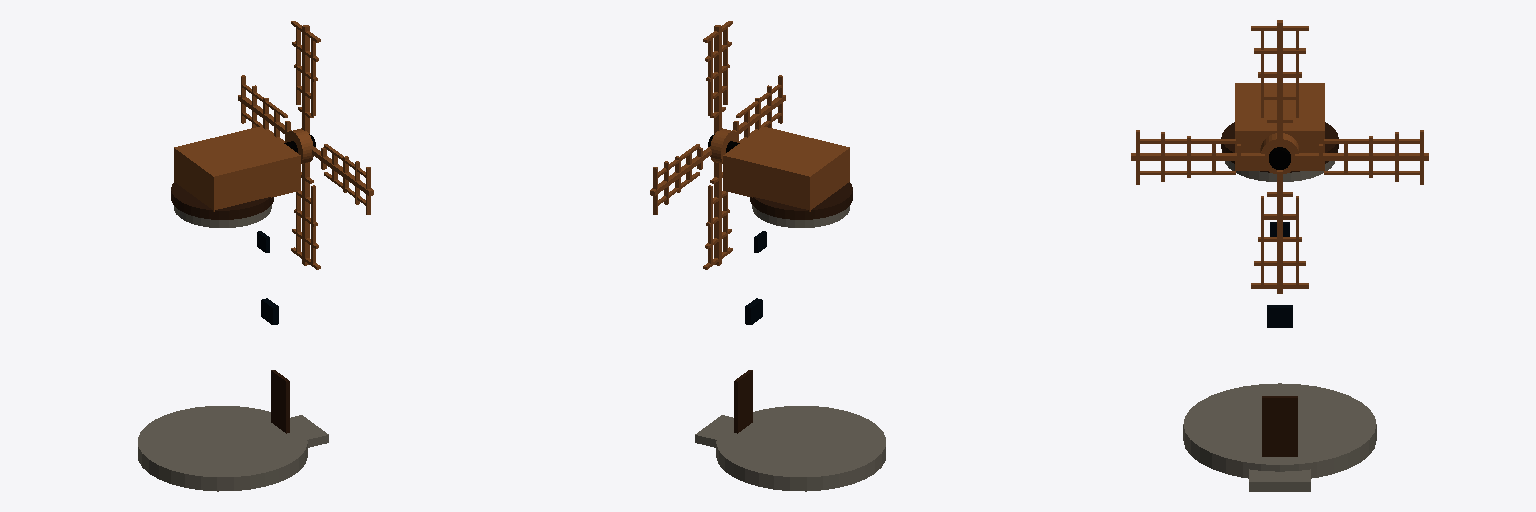
The robot description file, URDF, robot "traditional_windmill":
<robot name="traditional_windmill">
  <material name="warm_whitewash">
    <color rgba="0.78 0.73 0.62 1" />
    </material>
  <material name="grey_stone">
    <color rgba="0.42 0.4 0.36 1" />
    </material>
  <material name="weathered_wood">
    <color rgba="0.5 0.3 0.15 1" />
    </material>
  <material name="dark_oak">
    <color rgba="0.2 0.12 0.07 1" />
    </material>
  <material name="black_shingles">
    <color rgba="0.05 0.055 0.06 1" />
    </material>
  <material name="dark_glass">
    <color rgba="0.03 0.06 0.09 1" />
    </material>
  <material name="dark_iron">
    <color rgba="0.02 0.02 0.018 1" />
    </material>
  <link name="tower">
    <visual name="tower_body">
      <geometry>
        <mesh filename="assets/meshes/tower_body.obj" />
        </geometry>
      <material name="warm_whitewash">
        <color rgba="0.78 0.73 0.62 1" />
        </material>
      </visual>
    <visual name="stone_plinth">
      <origin xyz="0 0 0.06" rpy="0 0 0" />
      <geometry>
        <cylinder radius="0.66" length="0.12" />
        </geometry>
      <material name="grey_stone">
        <color rgba="0.42 0.4 0.36 1" />
        </material>
      </visual>
    <visual name="tower_curb">
      <origin xyz="0 0 2.16" rpy="0 0 0" />
      <geometry>
        <cylinder radius="0.38" length="0.08" />
        </geometry>
      <material name="grey_stone">
        <color rgba="0.42 0.4 0.36 1" />
        </material>
      </visual>
    <visual name="front_door">
      <origin xyz="0.515 0 0.34" rpy="0 0 0" />
      <geometry>
        <box size="0.03 0.24 0.45" />
        </geometry>
      <material name="dark_oak">
        <color rgba="0.2 0.12 0.07 1" />
        </material>
      </visual>
    <visual name="front_window">
      <origin xyz="0.425 0 1.13" rpy="0 0 0" />
      <geometry>
        <box size="0.055 0.18 0.15" />
        </geometry>
      <material name="dark_glass">
        <color rgba="0.03 0.06 0.09 1" />
        </material>
      </visual>
    <visual name="upper_window">
      <origin xyz="0.365 0 1.74" rpy="0 0 0" />
      <geometry>
        <box size="0.035 0.14 0.13" />
        </geometry>
      <material name="dark_glass">
        <color rgba="0.03 0.06 0.09 1" />
        </material>
      </visual>
    <visual name="front_step">
      <origin xyz="0.68 0 0.035" rpy="0 0 0" />
      <geometry>
        <box size="0.3 0.42 0.07" />
        </geometry>
      <material name="grey_stone">
        <color rgba="0.42 0.4 0.36 1" />
        </material>
      </visual>
    </link>
  <link name="cap">
    <visual name="turntable_ring">
      <origin xyz="0 0 0.04" rpy="0 0 0" />
      <geometry>
        <cylinder radius="0.4" length="0.08" />
        </geometry>
      <material name="dark_oak">
        <color rgba="0.2 0.12 0.07 1" />
        </material>
      </visual>
    <visual name="cap_house">
      <origin xyz="0.13 0 0.22" rpy="0 0 0" />
      <geometry>
        <box size="0.78 0.62 0.3" />
        </geometry>
      <material name="weathered_wood">
        <color rgba="0.5 0.3 0.15 1" />
        </material>
      </visual>
    <visual name="cap_roof">
      <geometry>
        <mesh filename="assets/meshes/cap_roof.obj" />
        </geometry>
      <material name="black_shingles">
        <color rgba="0.05 0.055 0.06 1" />
        </material>
      </visual>
    <visual name="windshaft">
      <origin xyz="0.52 0 0.28" rpy="0 1.5708 0" />
      <geometry>
        <cylinder radius="0.055" length="0.24" />
        </geometry>
      <material name="dark_iron">
        <color rgba="0.02 0.02 0.018 1" />
        </material>
      </visual>
    </link>
  <link name="sail_hub">
    <visual name="hub_barrel">
      <origin xyz="0.05 0 0" rpy="0 1.5708 0" />
      <geometry>
        <cylinder radius="0.135" length="0.1" />
        </geometry>
      <material name="weathered_wood">
        <color rgba="0.5 0.3 0.15 1" />
        </material>
      </visual>
    <visual name="front_bolt">
      <origin xyz="0.127 0 0" rpy="0 1.5708 0" />
      <geometry>
        <cylinder radius="0.075" length="0.055" />
        </geometry>
      <material name="dark_iron">
        <color rgba="0.02 0.02 0.018 1" />
        </material>
      </visual>
    <visual name="blade_0_spar">
      <origin xyz="0.105 -0 0.56" rpy="0 0 0" />
      <geometry>
        <box size="0.045 0.04 0.92" />
        </geometry>
      <material name="weathered_wood">
        <color rgba="0.5 0.3 0.15 1" />
        </material>
      </visual>
    <visual name="blade_0_slat_0">
      <origin xyz="0.105 -0 0.28" rpy="0 0 0" />
      <geometry>
        <box size="0.034 0.18 0.024" />
        </geometry>
      <material name="weathered_wood">
        <color rgba="0.5 0.3 0.15 1" />
        </material>
      </visual>
    <visual name="blade_0_slat_1">
      <origin xyz="0.105 -0 0.45" rpy="0 0 0" />
      <geometry>
        <box size="0.034 0.24 0.024" />
        </geometry>
      <material name="weathered_wood">
        <color rgba="0.5 0.3 0.15 1" />
        </material>
      </visual>
    <visual name="blade_0_slat_2">
      <origin xyz="0.105 -0 0.62" rpy="0 0 0" />
      <geometry>
        <box size="0.034 0.3 0.024" />
        </geometry>
      <material name="weathered_wood">
        <color rgba="0.5 0.3 0.15 1" />
        </material>
      </visual>
    <visual name="blade_0_slat_3">
      <origin xyz="0.105 -0 0.8" rpy="0 0 0" />
      <geometry>
        <box size="0.034 0.36 0.024" />
        </geometry>
      <material name="weathered_wood">
        <color rgba="0.5 0.3 0.15 1" />
        </material>
      </visual>
    <visual name="blade_0_slat_4">
      <origin xyz="0.105 -0 0.97" rpy="0 0 0" />
      <geometry>
        <box size="0.034 0.4 0.024" />
        </geometry>
      <material name="weathered_wood">
        <color rgba="0.5 0.3 0.15 1" />
        </material>
      </visual>
    <visual name="blade_0_rail_0">
      <origin xyz="0.105 -0.12 0.63" rpy="0 0 0" />
      <geometry>
        <box size="0.03 0.02 0.66" />
        </geometry>
      <material name="weathered_wood">
        <color rgba="0.5 0.3 0.15 1" />
        </material>
      </visual>
    <visual name="blade_0_rail_1">
      <origin xyz="0.105 0.12 0.63" rpy="0 0 0" />
      <geometry>
        <box size="0.03 0.02 0.66" />
        </geometry>
      <material name="weathered_wood">
        <color rgba="0.5 0.3 0.15 1" />
        </material>
      </visual>
    <visual name="blade_1_spar">
      <origin xyz="0.105 -0.56 3.42901e-17" rpy="1.5708 0 0" />
      <geometry>
        <box size="0.045 0.04 0.92" />
        </geometry>
      <material name="weathered_wood">
        <color rgba="0.5 0.3 0.15 1" />
        </material>
      </visual>
    <visual name="blade_1_slat_0">
      <origin xyz="0.105 -0.28 1.71451e-17" rpy="1.5708 0 0" />
      <geometry>
        <box size="0.034 0.18 0.024" />
        </geometry>
      <material name="weathered_wood">
        <color rgba="0.5 0.3 0.15 1" />
        </material>
      </visual>
    <visual name="blade_1_slat_1">
      <origin xyz="0.105 -0.45 2.75546e-17" rpy="1.5708 0 0" />
      <geometry>
        <box size="0.034 0.24 0.024" />
        </geometry>
      <material name="weathered_wood">
        <color rgba="0.5 0.3 0.15 1" />
        </material>
      </visual>
    <visual name="blade_1_slat_2">
      <origin xyz="0.105 -0.62 3.79641e-17" rpy="1.5708 0 0" />
      <geometry>
        <box size="0.034 0.3 0.024" />
        </geometry>
      <material name="weathered_wood">
        <color rgba="0.5 0.3 0.15 1" />
        </material>
      </visual>
    <visual name="blade_1_slat_3">
      <origin xyz="0.105 -0.8 4.89859e-17" rpy="1.5708 0 0" />
      <geometry>
        <box size="0.034 0.36 0.024" />
        </geometry>
      <material name="weathered_wood">
        <color rgba="0.5 0.3 0.15 1" />
        </material>
      </visual>
    <visual name="blade_1_slat_4">
      <origin xyz="0.105 -0.97 5.93954e-17" rpy="1.5708 0 0" />
      <geometry>
        <box size="0.034 0.4 0.024" />
        </geometry>
      <material name="weathered_wood">
        <color rgba="0.5 0.3 0.15 1" />
        </material>
      </visual>
    <visual name="blade_1_rail_0">
      <origin xyz="0.105 -0.63 -0.12" rpy="1.5708 0 0" />
      <geometry>
        <box size="0.03 0.02 0.66" />
        </geometry>
      <material name="weathered_wood">
        <color rgba="0.5 0.3 0.15 1" />
        </material>
      </visual>
    <visual name="blade_1_rail_1">
      <origin xyz="0.105 -0.63 0.12" rpy="1.5708 0 0" />
      <geometry>
        <box size="0.03 0.02 0.66" />
        </geometry>
      <material name="weathered_wood">
        <color rgba="0.5 0.3 0.15 1" />
        </material>
      </visual>
    <visual name="blade_2_spar">
      <origin xyz="0.105 -6.85802e-17 -0.56" rpy="3.14159 0 0" />
      <geometry>
        <box size="0.045 0.04 0.92" />
        </geometry>
      <material name="weathered_wood">
        <color rgba="0.5 0.3 0.15 1" />
        </material>
      </visual>
    <visual name="blade_2_slat_0">
      <origin xyz="0.105 -3.42901e-17 -0.28" rpy="3.14159 0 0" />
      <geometry>
        <box size="0.034 0.18 0.024" />
        </geometry>
      <material name="weathered_wood">
        <color rgba="0.5 0.3 0.15 1" />
        </material>
      </visual>
    <visual name="blade_2_slat_1">
      <origin xyz="0.105 -5.51091e-17 -0.45" rpy="3.14159 0 0" />
      <geometry>
        <box size="0.034 0.24 0.024" />
        </geometry>
      <material name="weathered_wood">
        <color rgba="0.5 0.3 0.15 1" />
        </material>
      </visual>
    <visual name="blade_2_slat_2">
      <origin xyz="0.105 -7.59281e-17 -0.62" rpy="3.14159 0 0" />
      <geometry>
        <box size="0.034 0.3 0.024" />
        </geometry>
      <material name="weathered_wood">
        <color rgba="0.5 0.3 0.15 1" />
        </material>
      </visual>
    <visual name="blade_2_slat_3">
      <origin xyz="0.105 -9.79717e-17 -0.8" rpy="3.14159 0 0" />
      <geometry>
        <box size="0.034 0.36 0.024" />
        </geometry>
      <material name="weathered_wood">
        <color rgba="0.5 0.3 0.15 1" />
        </material>
      </visual>
    <visual name="blade_2_slat_4">
      <origin xyz="0.105 -1.18791e-16 -0.97" rpy="3.14159 0 0" />
      <geometry>
        <box size="0.034 0.4 0.024" />
        </geometry>
      <material name="weathered_wood">
        <color rgba="0.5 0.3 0.15 1" />
        </material>
      </visual>
    <visual name="blade_2_rail_0">
      <origin xyz="0.105 0.12 -0.63" rpy="3.14159 0 0" />
      <geometry>
        <box size="0.03 0.02 0.66" />
        </geometry>
      <material name="weathered_wood">
        <color rgba="0.5 0.3 0.15 1" />
        </material>
      </visual>
    <visual name="blade_2_rail_1">
      <origin xyz="0.105 -0.12 -0.63" rpy="3.14159 0 0" />
      <geometry>
        <box size="0.03 0.02 0.66" />
        </geometry>
      <material name="weathered_wood">
        <color rgba="0.5 0.3 0.15 1" />
        </material>
      </visual>
    <visual name="blade_3_spar">
      <origin xyz="0.105 0.56 -1.0287e-16" rpy="4.71239 0 0" />
      <geometry>
        <box size="0.045 0.04 0.92" />
        </geometry>
      <material name="weathered_wood">
        <color rgba="0.5 0.3 0.15 1" />
        </material>
      </visual>
    <visual name="blade_3_slat_0">
      <origin xyz="0.105 0.28 -5.14352e-17" rpy="4.71239 0 0" />
      <geometry>
        <box size="0.034 0.18 0.024" />
        </geometry>
      <material name="weathered_wood">
        <color rgba="0.5 0.3 0.15 1" />
        </material>
      </visual>
    <visual name="blade_3_slat_1">
      <origin xyz="0.105 0.45 -8.26637e-17" rpy="4.71239 0 0" />
      <geometry>
        <box size="0.034 0.24 0.024" />
        </geometry>
      <material name="weathered_wood">
        <color rgba="0.5 0.3 0.15 1" />
        </material>
      </visual>
    <visual name="blade_3_slat_2">
      <origin xyz="0.105 0.62 -1.13892e-16" rpy="4.71239 0 0" />
      <geometry>
        <box size="0.034 0.3 0.024" />
        </geometry>
      <material name="weathered_wood">
        <color rgba="0.5 0.3 0.15 1" />
        </material>
      </visual>
    <visual name="blade_3_slat_3">
      <origin xyz="0.105 0.8 -1.46958e-16" rpy="4.71239 0 0" />
      <geometry>
        <box size="0.034 0.36 0.024" />
        </geometry>
      <material name="weathered_wood">
        <color rgba="0.5 0.3 0.15 1" />
        </material>
      </visual>
    <visual name="blade_3_slat_4">
      <origin xyz="0.105 0.97 -1.78186e-16" rpy="4.71239 0 0" />
      <geometry>
        <box size="0.034 0.4 0.024" />
        </geometry>
      <material name="weathered_wood">
        <color rgba="0.5 0.3 0.15 1" />
        </material>
      </visual>
    <visual name="blade_3_rail_0">
      <origin xyz="0.105 0.63 0.12" rpy="4.71239 0 0" />
      <geometry>
        <box size="0.03 0.02 0.66" />
        </geometry>
      <material name="weathered_wood">
        <color rgba="0.5 0.3 0.15 1" />
        </material>
      </visual>
    <visual name="blade_3_rail_1">
      <origin xyz="0.105 0.63 -0.12" rpy="4.71239 0 0" />
      <geometry>
        <box size="0.03 0.02 0.66" />
        </geometry>
      <material name="weathered_wood">
        <color rgba="0.5 0.3 0.15 1" />
        </material>
      </visual>
    </link>
  <joint name="tower_to_cap" type="continuous">
    <origin xyz="0 0 2.2" rpy="0 0 0" />
    <parent link="tower" />
    <child link="cap" />
    <axis xyz="0 0 1" />
    <limit effort="80" velocity="0.35" />
    </joint>
  <joint name="cap_to_sail_hub" type="continuous">
    <origin xyz="0.64 0 0.28" rpy="0 0 0" />
    <parent link="cap" />
    <child link="sail_hub" />
    <axis xyz="1 0 0" />
    <limit effort="35" velocity="4" />
    </joint>
  </robot>

--- Render facts (derived) ---
Views: 3 orthographic renders of the robot side by side, from view 1: azimuth 30°, elevation 25°; view 2: azimuth 150°, elevation 25°; view 3: azimuth 270°, elevation 25°.
Robot: traditional_windmill — 3 links, 2 joints (2 continuous); root link tower; default pose: every joint at zero.
Links seen in each view (by area): view 1: tower, cap, sail_hub; view 2: tower, cap, sail_hub; view 3: tower, sail_hub, cap.
Link boxes in pixels (left/top/right/bottom): tower: left=138, top=205, right=328, bottom=491; cap: left=171, top=126, right=300, bottom=219; sail_hub: left=238, top=21, right=373, bottom=269; tower: left=695, top=205, right=885, bottom=491; cap: left=723, top=126, right=852, bottom=219; sail_hub: left=650, top=21, right=785, bottom=269; tower: left=1183, top=161, right=1376, bottom=491; sail_hub: left=1131, top=20, right=1428, bottom=293; cap: left=1221, top=83, right=1338, bottom=172.
Bounding box of the posed robot: 1.49 × 2.04 × 3.5 m (x, y, z).
0 mesh visuals loaded from 2 distinct referenced files (none loaded); not drawn: 2 (file found but could not be loaded).
